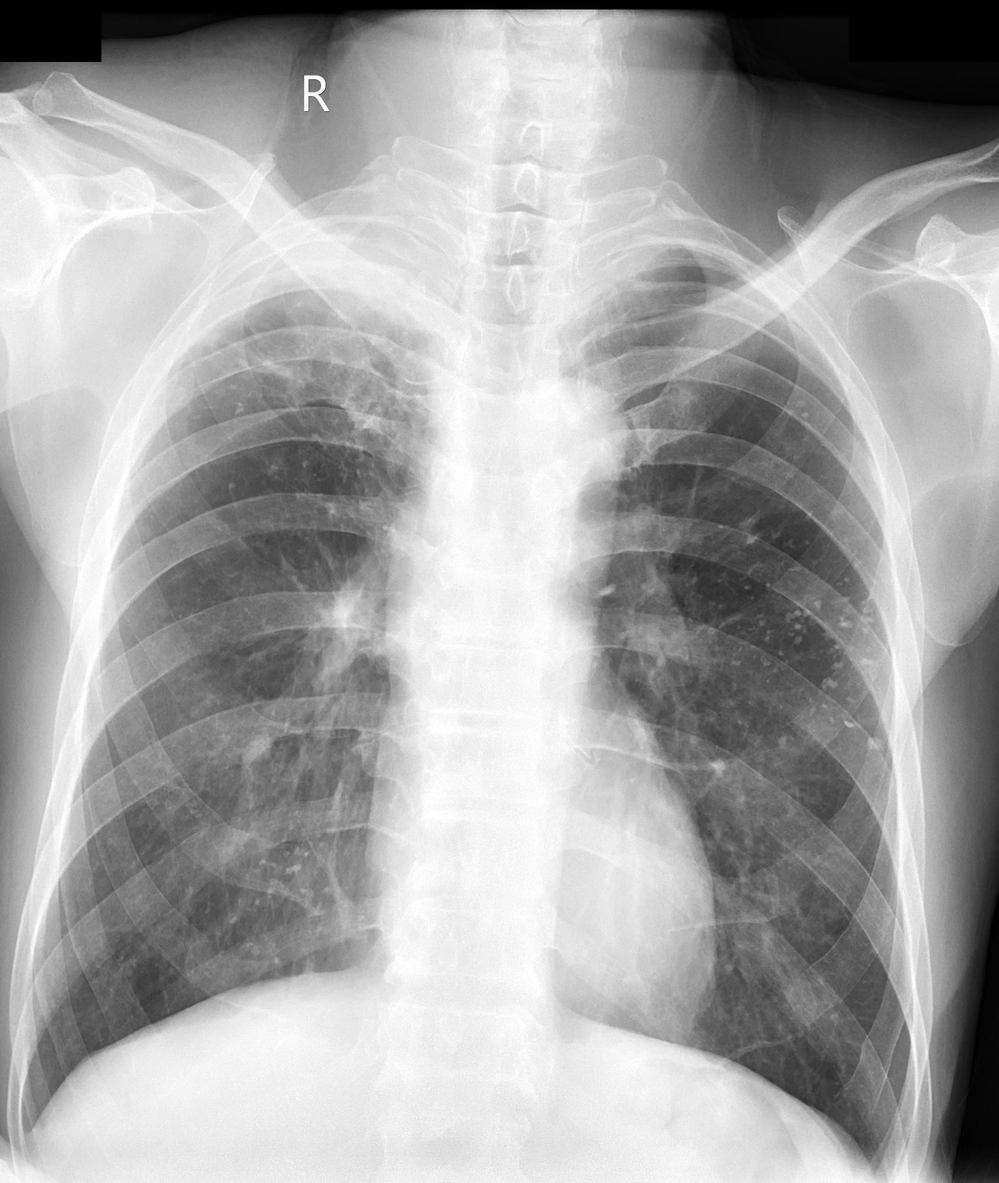Aortic enlargement: (505, 376, 629, 507)
Pleural thickening: (176, 200, 481, 331), (568, 241, 675, 305)
Pulmonary fibrosis: (151, 295, 448, 631), (291, 780, 376, 943)
